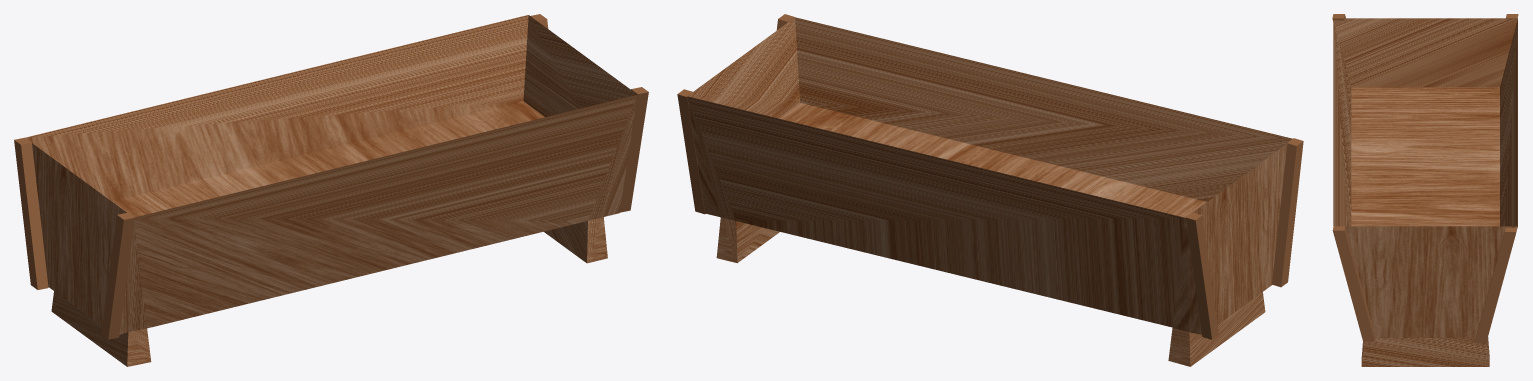
File: pecebre.obj
3 renders of one model, left to right at view 1: azimuth 30°, elevation 25°; view 2: azimuth 150°, elevation 25°; view 3: azimuth 270°, elevation 25°, orthographic. The views are drawn at different scales.
Visible parts, largest first — view 1: watertroug; view 2: watertroug; view 3: watertroug.
Boxes of the visible parts, <box> form: watertroug: <box>14,14,648,366</box>; watertroug: <box>677,14,1303,366</box>; watertroug: <box>1332,14,1518,366</box>.
Bounding box in the file's own units: 1.52 × 0.48 × 0.5536.
